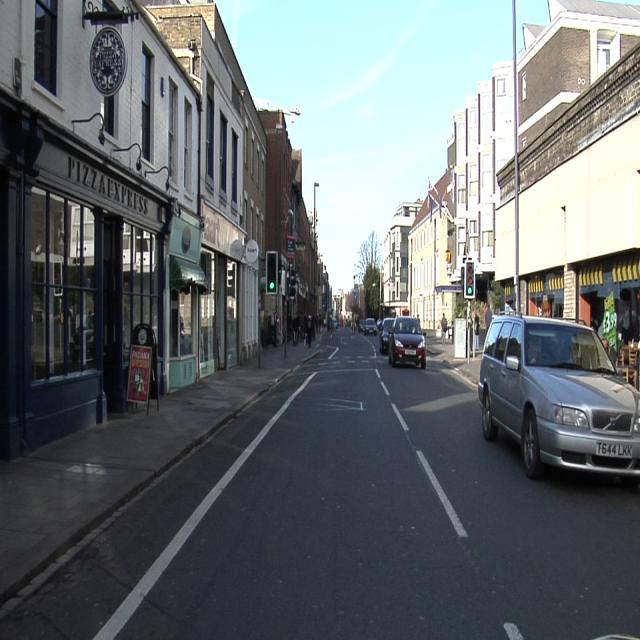Building: (2, 1, 263, 453), (383, 1, 637, 364), (259, 106, 330, 344)
Car: (480, 316, 639, 478), (390, 317, 425, 367), (381, 318, 394, 352), (363, 319, 376, 334)
Road: (3, 330, 638, 625)
